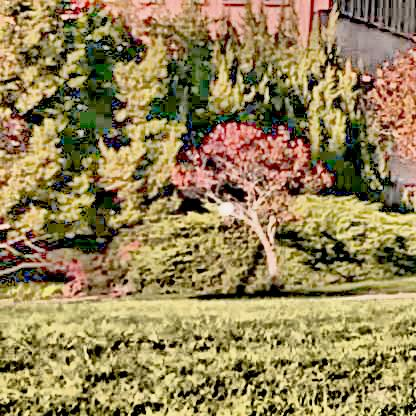golfball: (214, 198, 231, 215)
